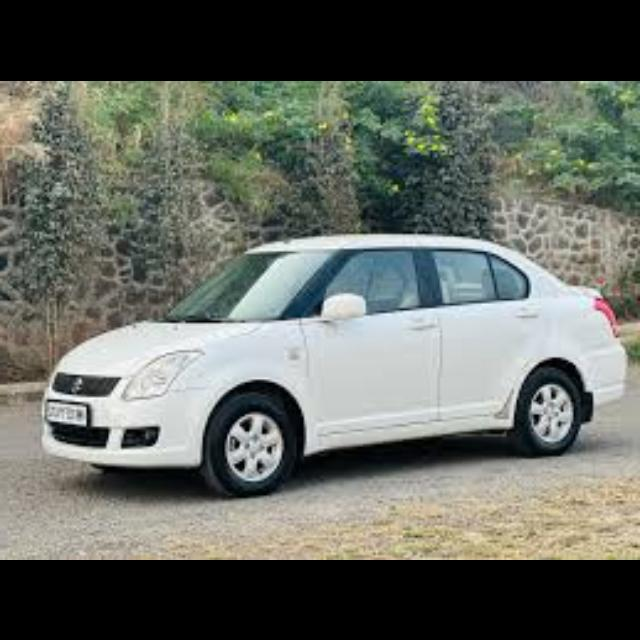number-plate: (47, 401, 91, 423)
vehicles: (37, 231, 635, 503)
